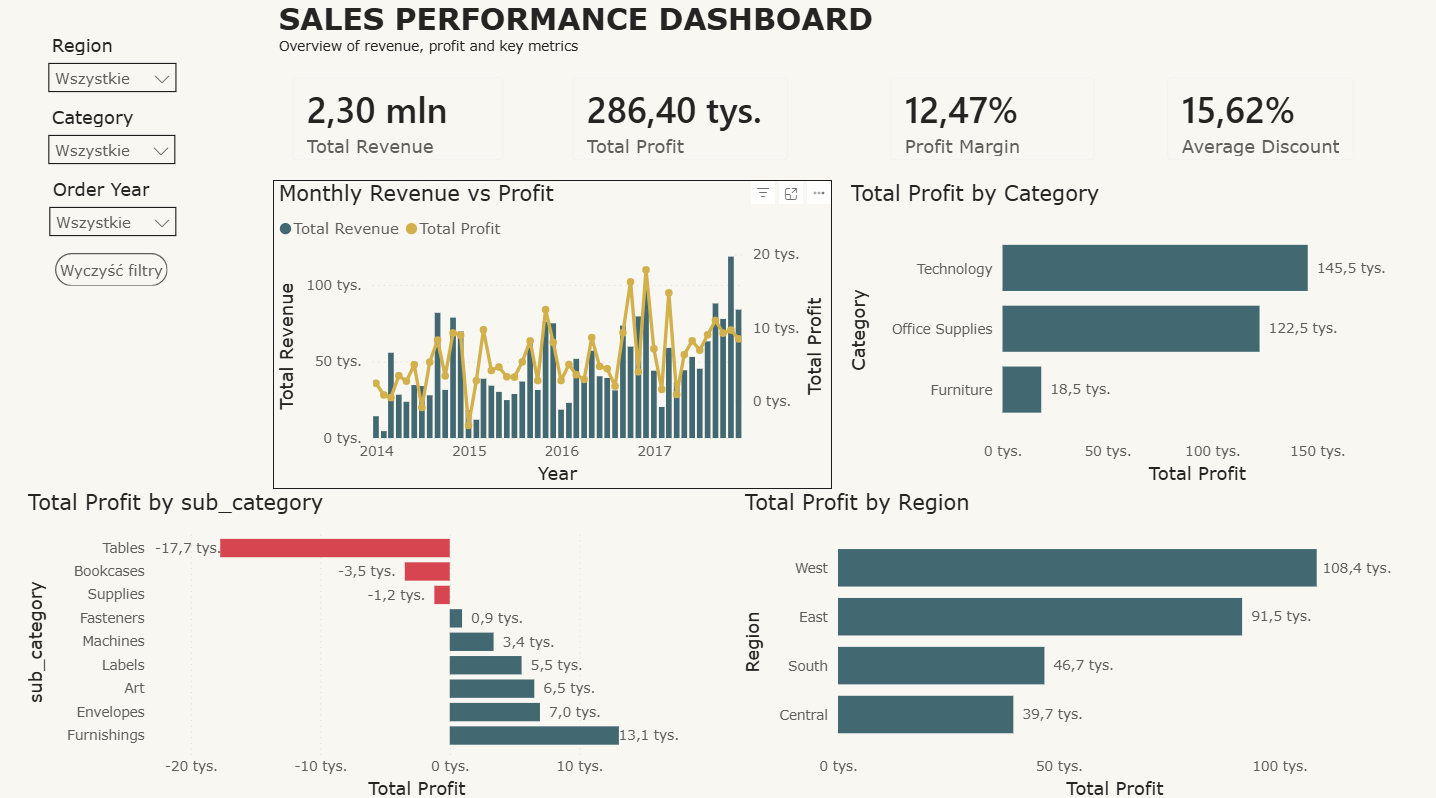

Layout of this report page (visuals, bound fields, positions):
{"tool":"powerbi","page":{"name":"Strona 1","canvas":[1280,720],"ordinal":0},"visuals":[{"type":"cardVisual","fields":{"Data":["vw_fmcg_sales_dashboard.Total Revenue"]},"box":[243.6,57,223,108.1],"z":0},{"type":"cardVisual","fields":{"Data":["vw_fmcg_sales_dashboard.Total Profit"]},"box":[492.2,57,226.9,108.1],"z":1000},{"type":"cardVisual","fields":{"Data":["vw_fmcg_sales_dashboard.Profit Margin"]},"box":[775.1,57,216.1,108.1],"z":2000},{"type":"cardVisual","fields":{"Data":["vw_fmcg_sales_dashboard.Average Discount"]},"box":[1021.6,57,200.4,108.1],"z":3000},{"type":"lineStackedColumnComboChart","title":"Monthly Revenue vs Profit","fields":{"Category":["vw_fmcg_sales_dashboard.year_month"],"Y":["vw_fmcg_sales_dashboard.Total Revenue"],"Y2":["vw_fmcg_sales_dashboard.Total Profit"]},"box":[243.3,165.2,497.4,274.7],"z":4000},{"type":"clusteredBarChart","title":"Total Profit by Category","fields":{"Category":["vw_fmcg_sales_dashboard.category"],"Y":["vw_fmcg_sales_dashboard.Total Profit"]},"box":[752.3,165.2,516.2,274.7],"z":5000},{"type":"clusteredBarChart","title":"Total Profit by sub_category","fields":{"Category":["vw_fmcg_sales_dashboard.sub_category"],"Y":["vw_fmcg_sales_dashboard.Total Profit"]},"box":[20.6,440.1,610,280],"z":6000},{"type":"clusteredBarChart","title":"Total Profit by Region","fields":{"Category":["vw_fmcg_sales_dashboard.region"],"Y":["vw_fmcg_sales_dashboard.Total Profit"]},"box":[658.2,440.1,610,280],"z":7000},{"type":"slicer","fields":{"Values":["vw_fmcg_sales_dashboard.region"]},"box":[34.2,30.5,133.8,63.7],"z":8000},{"type":"slicer","fields":{"Values":["vw_fmcg_sales_dashboard.category"]},"box":[34.2,94.3,132.9,63.7],"z":9000},{"type":"slicer","fields":{"Values":["vw_fmcg_sales_dashboard.order_year"]},"box":[35.1,158,132.9,63.7],"z":10000},{"type":"textbox","box":[243.6,0,1036.4,69.7],"z":11000},{"type":"actionButton","box":[50.1,229.9,100.2,29.5],"z":12000}]}

Visuals, with their boxes in screenshot pixels (x1, y1, x2, y2), scaled from the page's 1280x720 canvas onto the 1436x798 screenshot:
cardVisual - vw_fmcg_sales_dashboard.Total Revenue: (left=273, top=63, right=523, bottom=183)
cardVisual - vw_fmcg_sales_dashboard.Total Profit: (left=552, top=63, right=807, bottom=183)
cardVisual - vw_fmcg_sales_dashboard.Profit Margin: (left=870, top=63, right=1112, bottom=183)
cardVisual - vw_fmcg_sales_dashboard.Average Discount: (left=1146, top=63, right=1371, bottom=183)
"Monthly Revenue vs Profit" lineStackedColumnComboChart: (left=273, top=183, right=831, bottom=488)
"Total Profit by Category" clusteredBarChart: (left=844, top=183, right=1423, bottom=488)
"Total Profit by sub_category" clusteredBarChart: (left=23, top=488, right=707, bottom=797)
"Total Profit by Region" clusteredBarChart: (left=738, top=488, right=1423, bottom=797)
slicer - vw_fmcg_sales_dashboard.region: (left=38, top=34, right=188, bottom=104)
slicer - vw_fmcg_sales_dashboard.category: (left=38, top=105, right=187, bottom=175)
slicer - vw_fmcg_sales_dashboard.order_year: (left=39, top=175, right=188, bottom=246)
textbox: (left=273, top=0, right=1435, bottom=77)
actionButton: (left=56, top=255, right=169, bottom=288)
